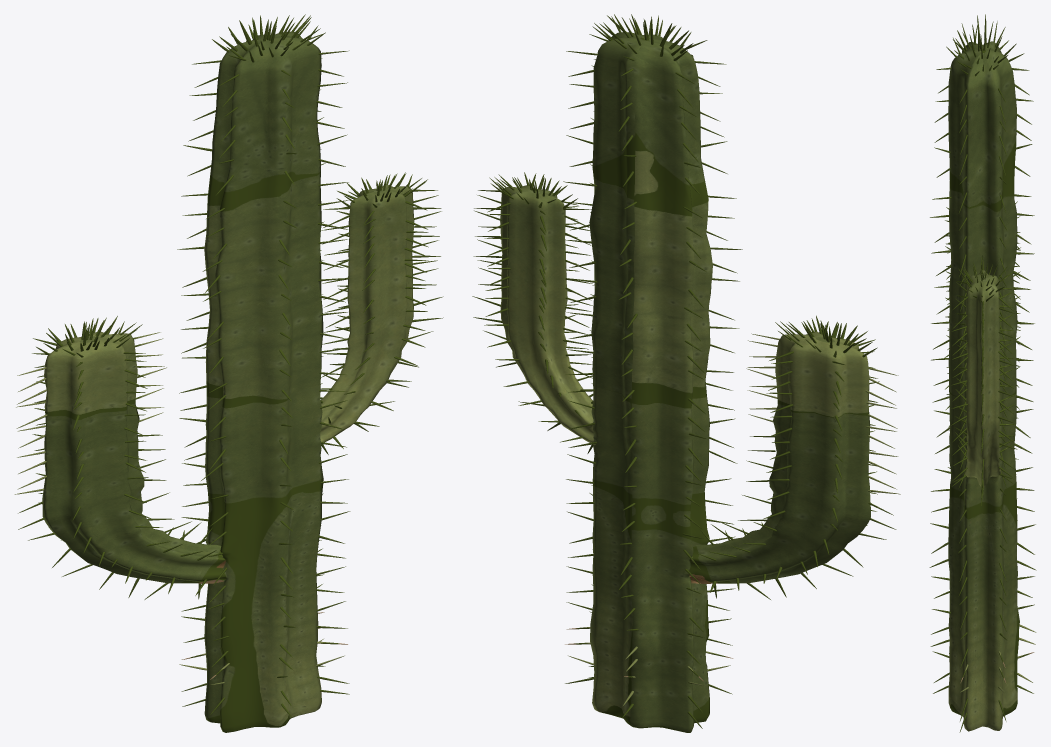
Rendered from firstcactus.obj.
3 renders of one model, left to right at view 1: azimuth 30°, elevation 25°; view 2: azimuth 150°, elevation 25°; view 3: azimuth 270°, elevation 25°, orthographic. The views are drawn at different scales.
Visible parts, largest first — view 1: node_id38; view 2: node_id38; view 3: node_id38.
Part boxes in pixels (x1,y1,x2,y2): node_id38: (14, 14, 443, 732); node_id38: (472, 14, 900, 732); node_id38: (929, 14, 1036, 732).
Size of the model in its own units: 0.5541 by 0.8637 by 0.1228.
Materials: 1 (1 with a texture image).
